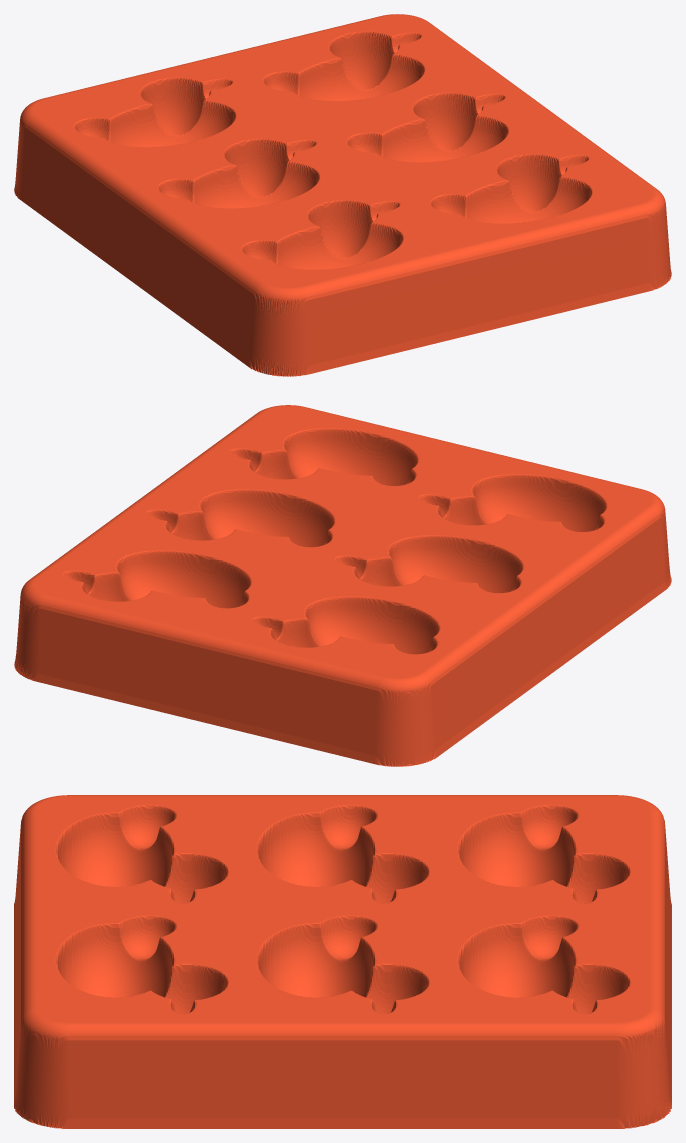
Rendered from mold.glb.
3 renders of one model, top to bottom at view 1: azimuth 30°, elevation 25°; view 2: azimuth 150°, elevation 25°; view 3: azimuth 270°, elevation 25°, orthographic. The views are drawn at different scales.
Parts seen in each view (by area): view 1: geometry_0; view 2: geometry_0; view 3: geometry_0.
Part boxes in pixels (x1,y1,x2,y2): geometry_0: (14, 14, 671, 376); geometry_0: (14, 405, 671, 766); geometry_0: (14, 795, 671, 1128).
Bounding box in the file's own units: 0.0945 × 0.0175 × 0.1075.
